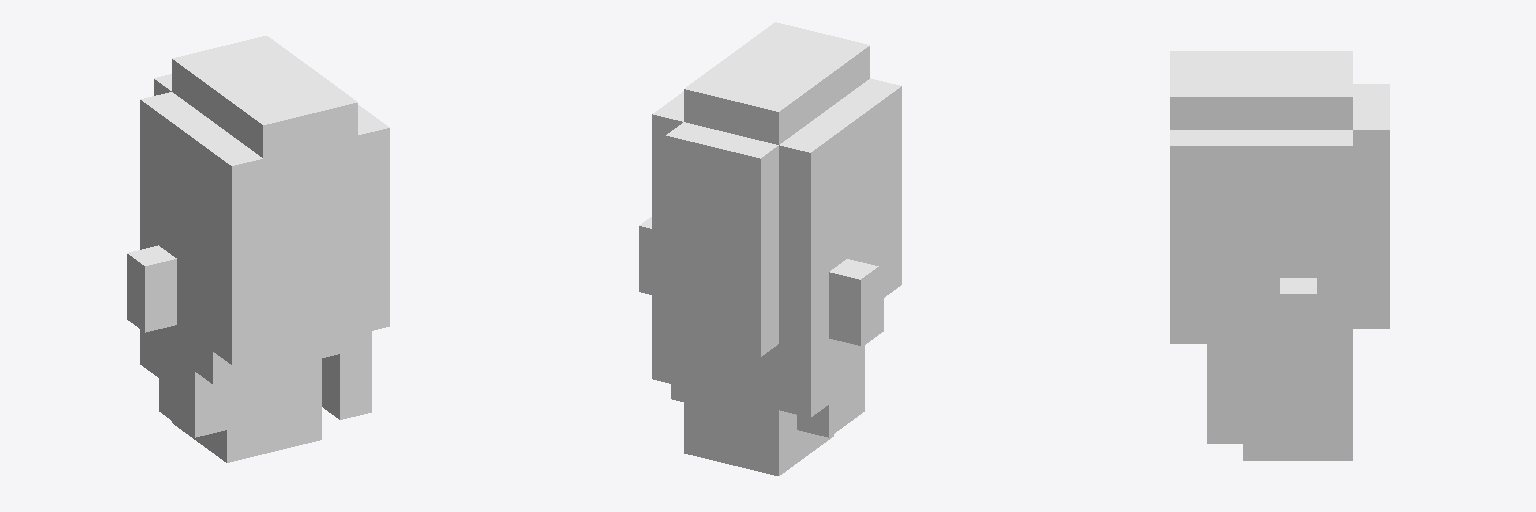
File: Zed_4-2.obj
3 views of the same model, side by side, from view 1: azimuth 30°, elevation 25°; view 2: azimuth 150°, elevation 25°; view 3: azimuth 270°, elevation 25° (orthographic).
Parts seen in each view (by area): view 1: object 1; view 2: object 1; view 3: object 1.
Boxes of the visible parts, x1,y1,x2,y2 form: object 1: [127, 36, 389, 462]; object 1: [639, 22, 901, 475]; object 1: [1170, 51, 1389, 460].
Bounding box in the file's own units: 0.7 × 1.1 × 0.6.